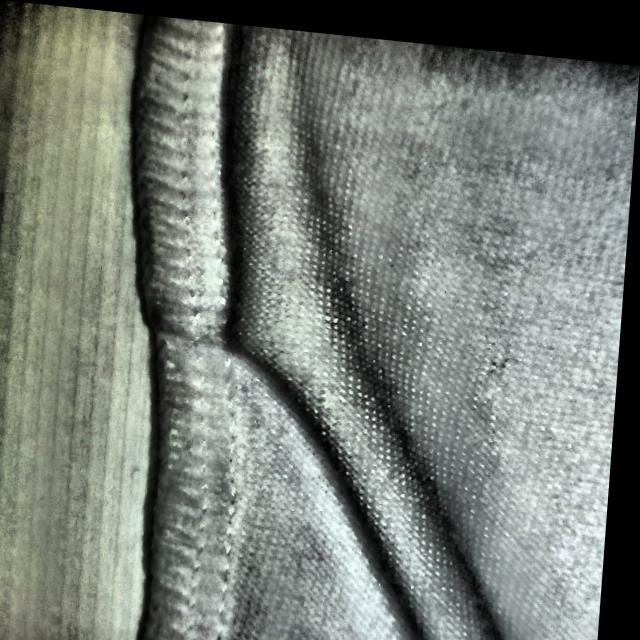seam: (129, 183, 402, 449)
